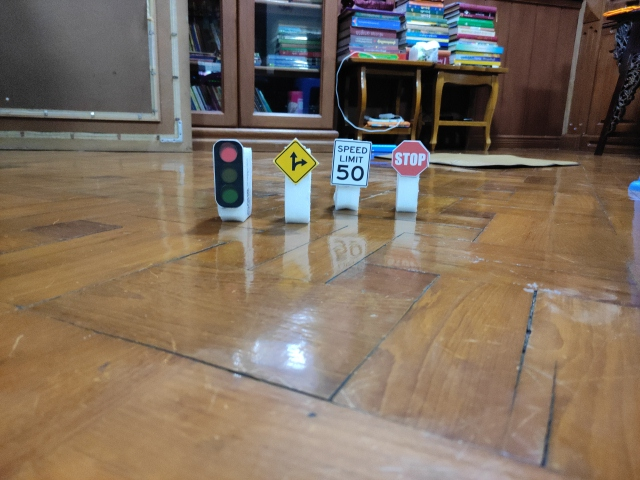Red Traffic Light: (213, 139, 245, 208)
Speed Limit 50: (331, 140, 372, 187)
Stop Sign: (391, 141, 431, 177)
Straight Or Right Sign: (274, 141, 317, 183)
